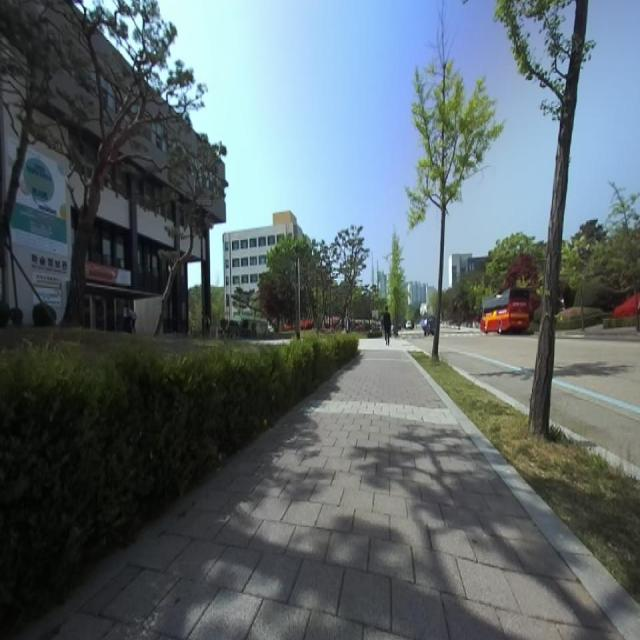sidewalk: (28, 350, 640, 639), (587, 324, 636, 335)
